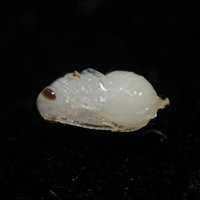insect: (37, 68, 168, 131)
